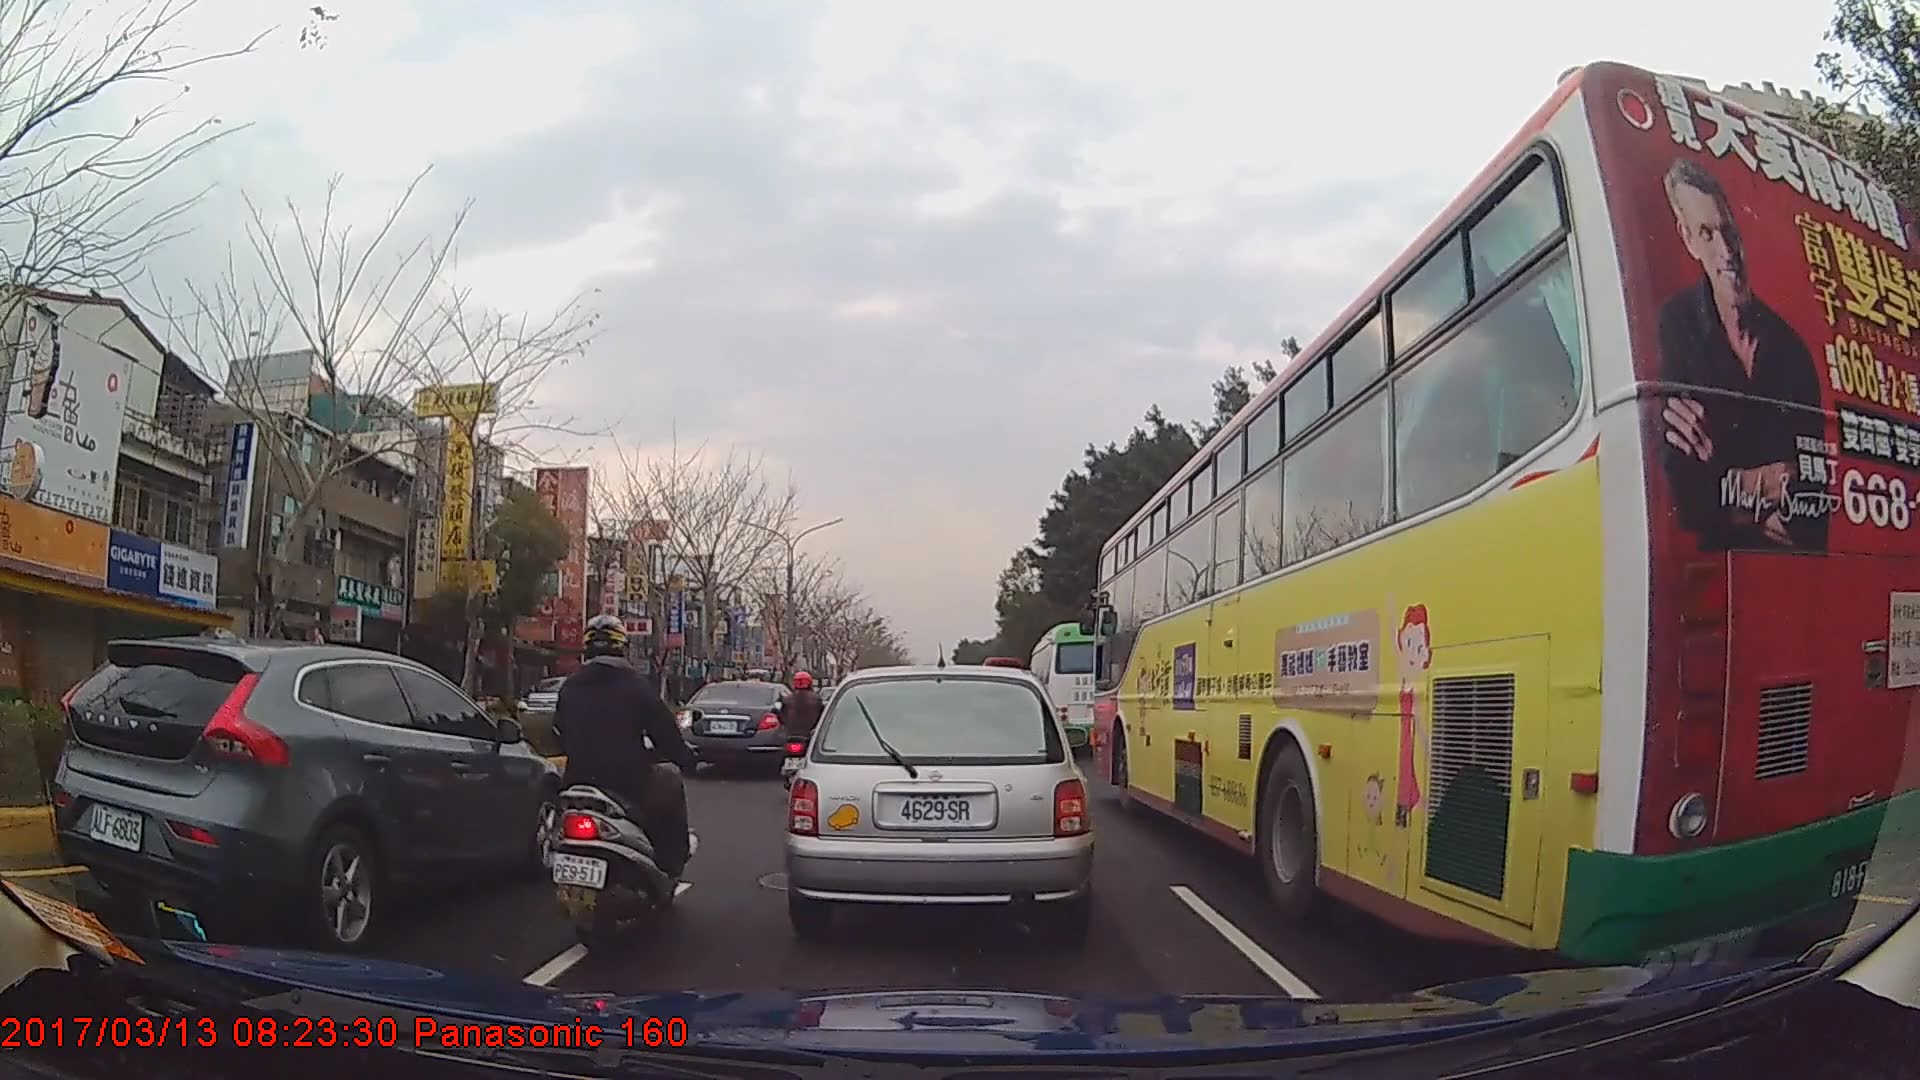rider: (546, 612, 691, 945), (775, 670, 832, 789)
vehicle: (1091, 57, 1920, 967), (54, 635, 568, 951), (784, 657, 1099, 937), (1029, 618, 1138, 757), (678, 677, 806, 775)
